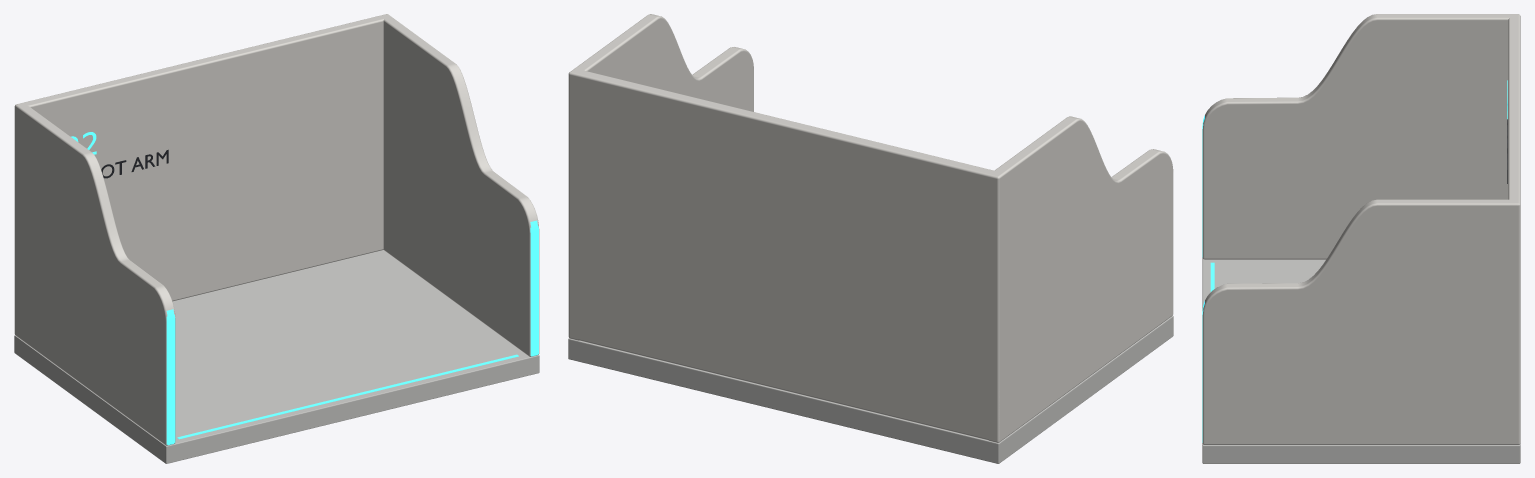
Rendered from Room_22_robot-arm.glb.
The picture shows the model from 3 angles, left to right: view 1: azimuth 30°, elevation 25°; view 2: azimuth 150°, elevation 25°; view 3: azimuth 270°, elevation 25°; orthographic projection. The views are drawn at different scales.
Visible parts, largest first — view 1: Walls, Floor, Accent, Label; view 2: Walls, Floor; view 3: Walls, Floor.
Part boxes in pixels (left/top/right/bottom): Walls: left=14, top=14, right=539, bottom=445; Floor: left=14, top=250, right=539, bottom=463; Accent: left=177, top=354, right=518, bottom=439; Label: left=71, top=132, right=168, bottom=178; Walls: left=568, top=14, right=1173, bottom=442; Floor: left=568, top=315, right=1173, bottom=463; Walls: left=1202, top=14, right=1520, bottom=444; Floor: left=1202, top=258, right=1520, bottom=463.
Size of the model in its own units: 4.4 by 2.8 by 3.1.
